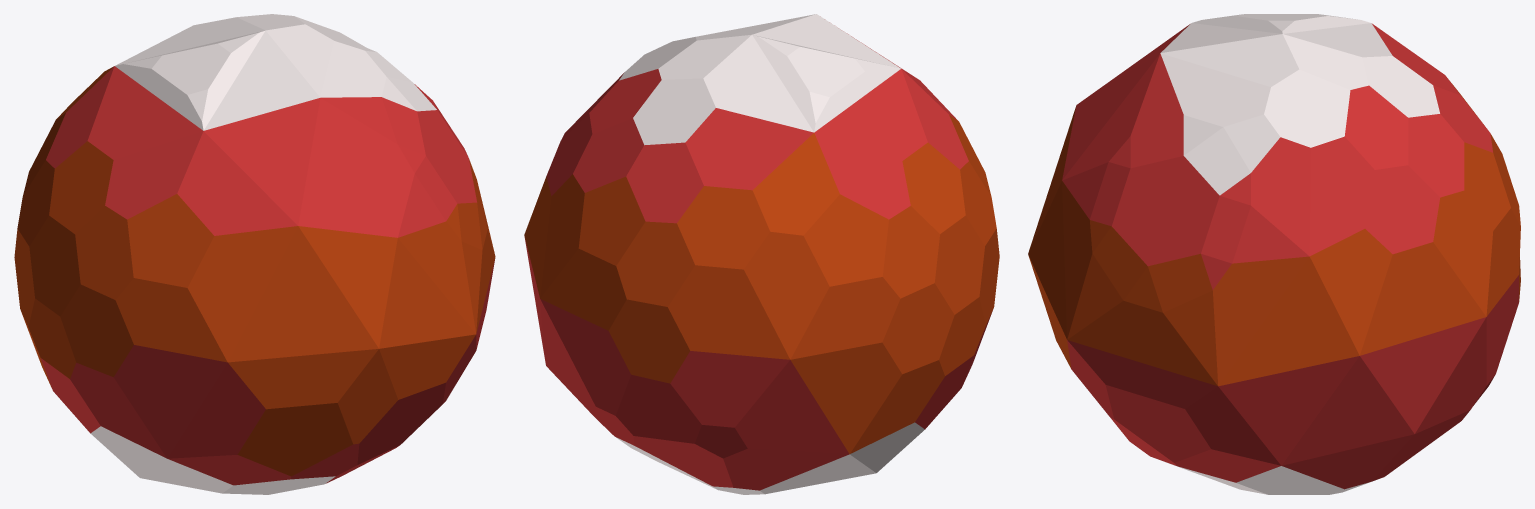
Rendered from Mars.fbx.
The picture shows the model from 3 angles, left to right: view 1: azimuth 30°, elevation 25°; view 2: azimuth 150°, elevation 25°; view 3: azimuth 270°, elevation 25°; orthographic projection. The views are drawn at different scales.
Visible parts, largest first — view 1: Icosphere; view 2: Icosphere; view 3: Icosphere.
Part boxes in pixels (left/top/right/bottom): Icosphere: left=14, top=14, right=495, bottom=494; Icosphere: left=524, top=14, right=999, bottom=494; Icosphere: left=1028, top=14, right=1520, bottom=494.
Size of the model in its own units: 444 by 459 by 450.
